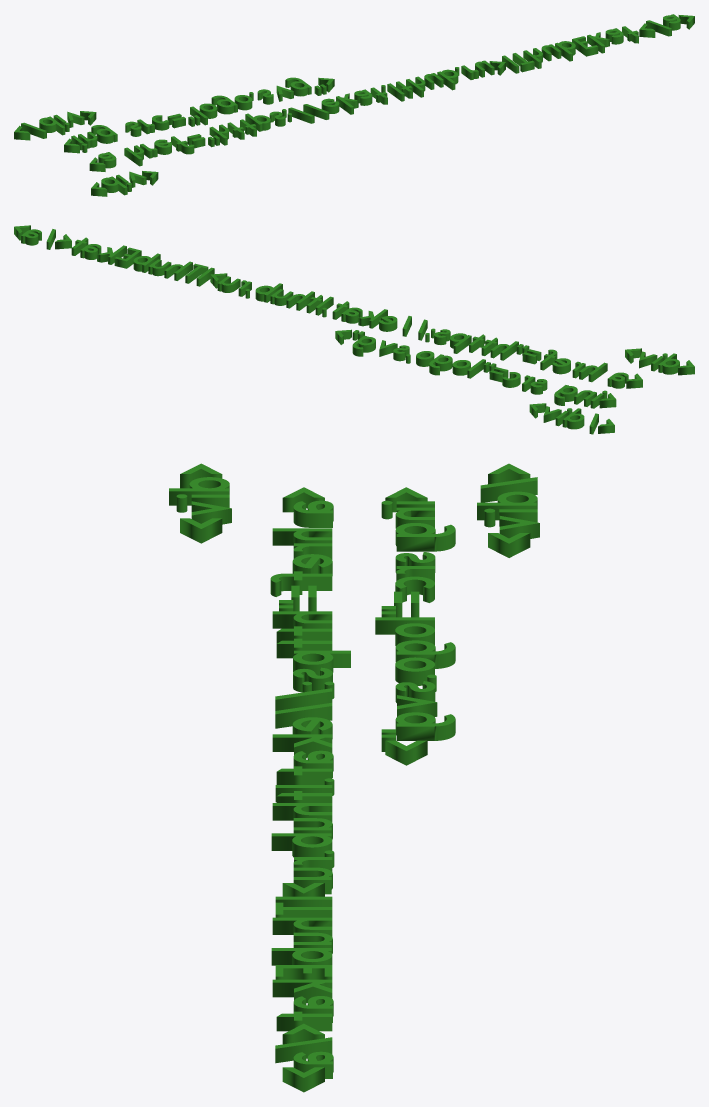
File: htmlCode.glb
3 renders of one model, top to bottom at view 1: azimuth 30°, elevation 25°; view 2: azimuth 150°, elevation 25°; view 3: azimuth 270°, elevation 25°, orthographic. The views are drawn at different scales.
Visible parts, largest first — view 1: Text.001; view 2: Text.001; view 3: Text.001.
Part boxes in pixels (x1,y1,x2,y2): Text.001: [14, 14, 694, 196]; Text.001: [14, 225, 694, 434]; Text.001: [169, 463, 539, 1092].
Size of the model in its own units: 6.52 by 0.0716 by 1.66.
